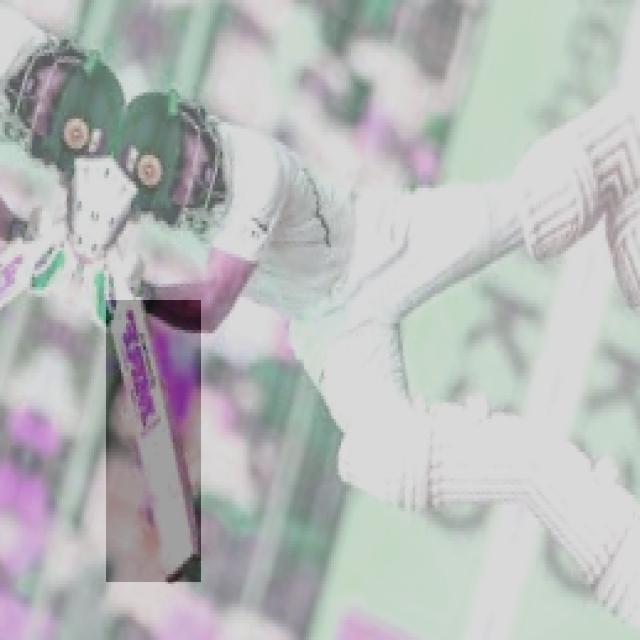bat: (105, 298, 202, 581)
toe: (168, 548, 205, 585)
